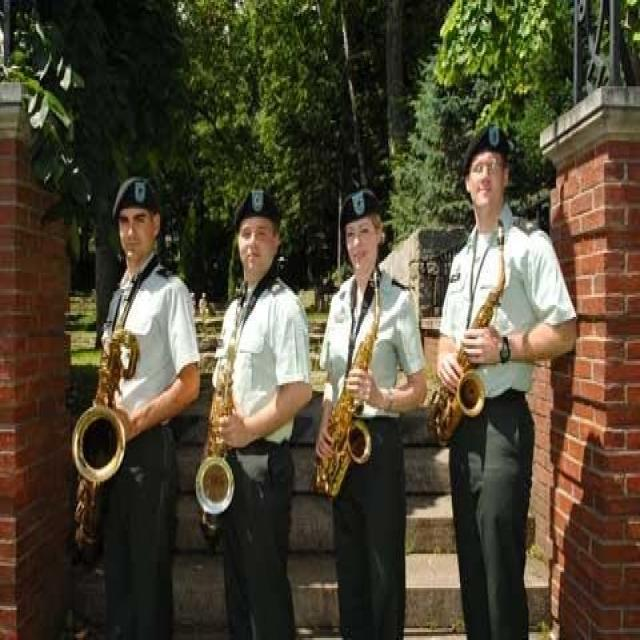saxophone: (425, 215, 513, 443), (311, 267, 386, 503), (67, 316, 131, 554), (192, 315, 244, 545)
